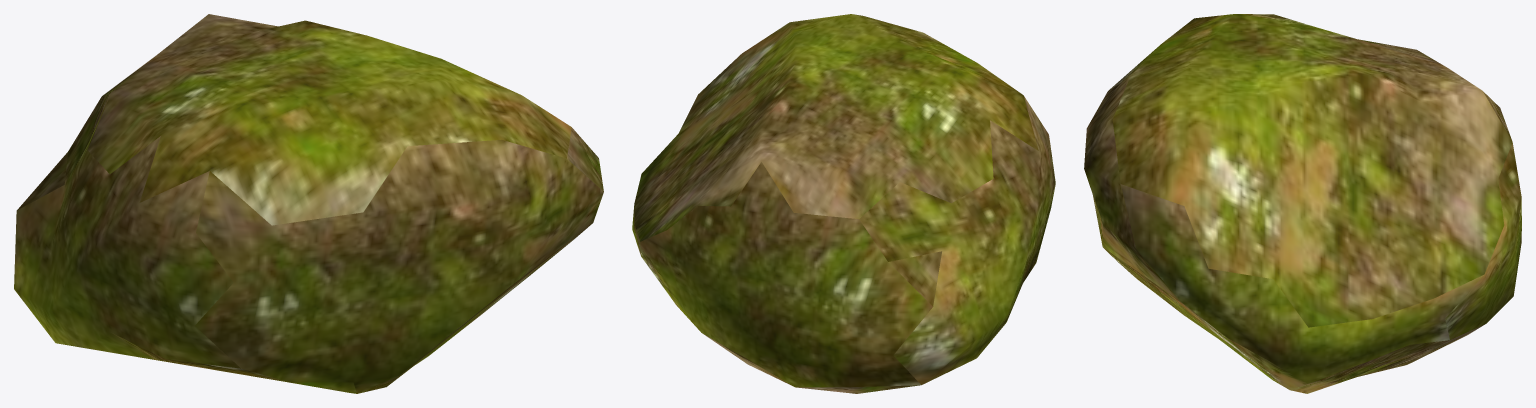
File: rock_boulder.glb
3 views of the same model, side by side, from view 1: azimuth 30°, elevation 25°; view 2: azimuth 150°, elevation 25°; view 3: azimuth 270°, elevation 25° (orthographic). The views are drawn at different scales.
Parts seen in each view (by area): view 1: rock_boulder; view 2: rock_boulder; view 3: rock_boulder.
Boxes of the visible parts, box(x1,y1,x2,y2) form: rock_boulder: box(14, 14, 603, 393); rock_boulder: box(632, 14, 1055, 393); rock_boulder: box(1084, 14, 1521, 393).
Size of the model in its own units: 0.19 by 0.13 by 0.17.
1 material, 1 textured.
